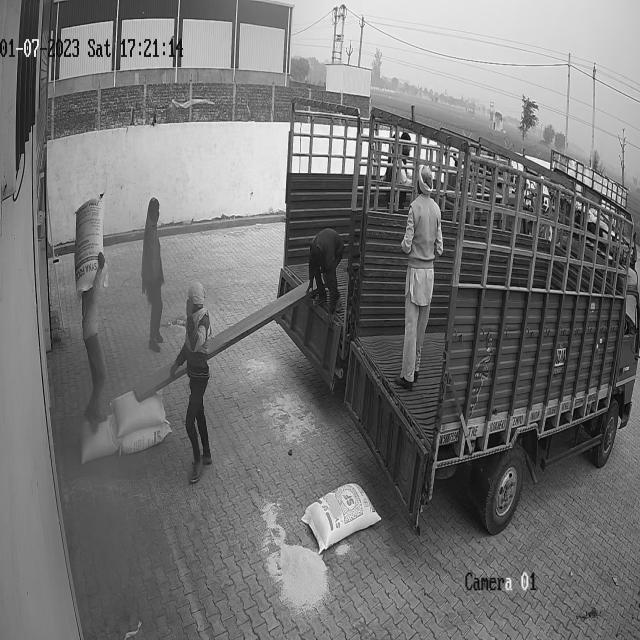sack: (302, 482, 381, 552), (75, 193, 104, 292), (110, 392, 164, 437), (81, 414, 119, 464), (120, 422, 172, 454)
